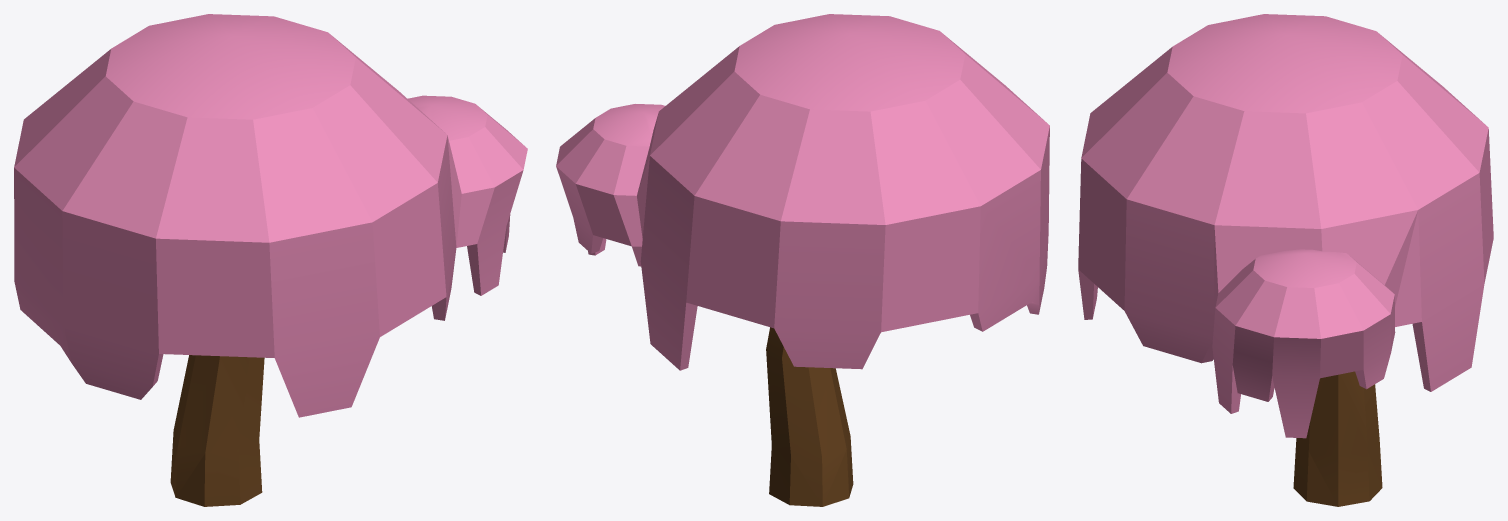
Rendered from Vegetation_Tree_Cherry_Blossom_01.fbx.
3 renders of one model, left to right at view 1: azimuth 30°, elevation 25°; view 2: azimuth 150°, elevation 25°; view 3: azimuth 270°, elevation 25°, orthographic. The views are drawn at different scales.
Visible parts, largest first — view 1: Vegetation_Tree_Cherry_Blossom_01; view 2: Vegetation_Tree_Cherry_Blossom_01; view 3: Vegetation_Tree_Cherry_Blossom_01.
Boxes of the visible parts, x1,y1,x2,y2 form: Vegetation_Tree_Cherry_Blossom_01: [14, 14, 527, 506]; Vegetation_Tree_Cherry_Blossom_01: [556, 14, 1049, 506]; Vegetation_Tree_Cherry_Blossom_01: [1078, 14, 1493, 506].
Size of the model in its own units: 247 by 233 by 196.
